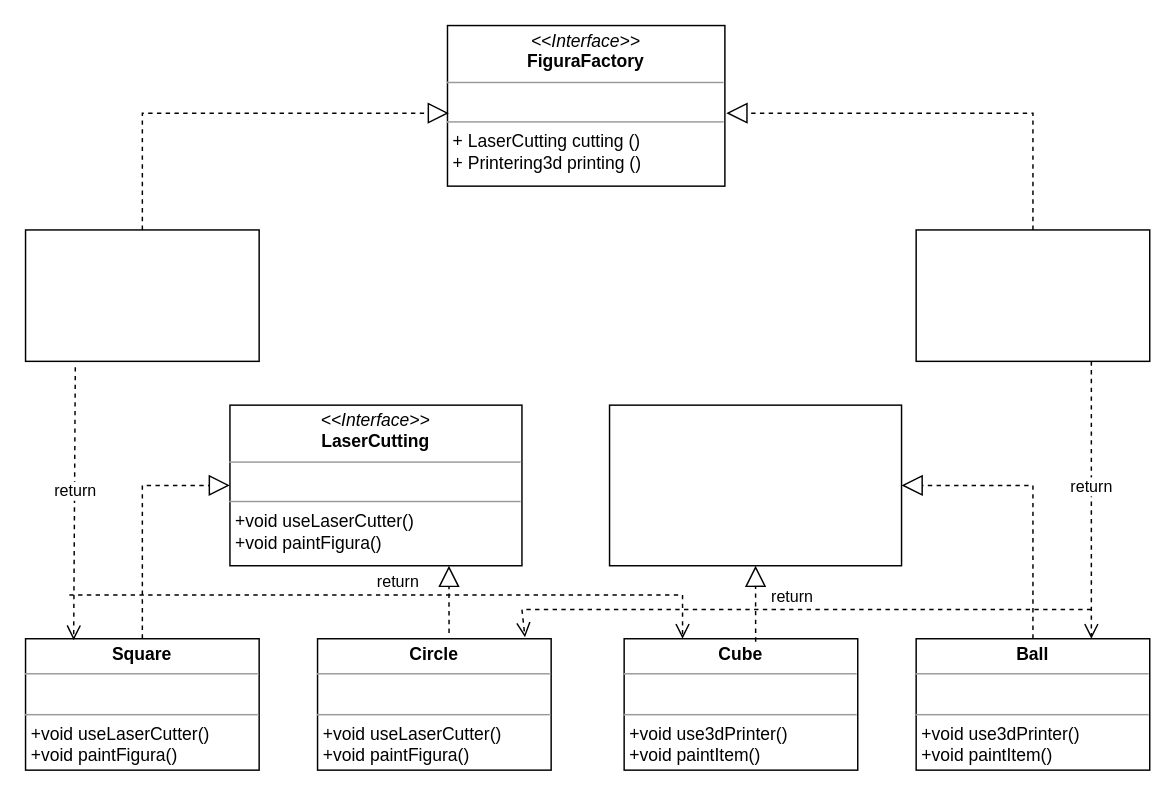
Image size: 1175x796. Some labels were removed from this diagram. Each missing label, with the box of its shape:
<<Interface>> Printering3d +void use3dPrinter() +void paintItem(): (608, 404, 902, 566)
BlackItem + LaserCutting cutting () + Printering3d printing (): (24, 228, 259, 361)
YellowItem + LaserCutting cutting () + Printering3d printing (): (915, 228, 1150, 361)
